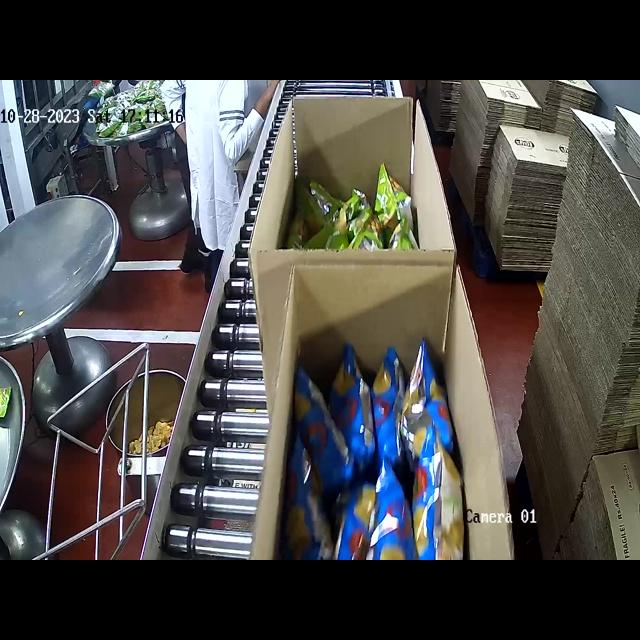paprika: (304, 352, 456, 560)
yogurt: (295, 176, 422, 255)
